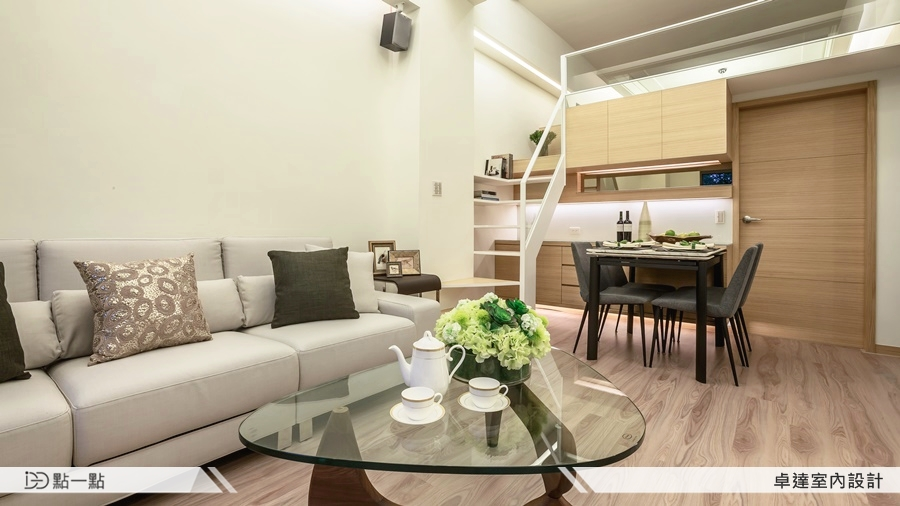sofa: (1, 234, 442, 506)
table: (240, 334, 638, 506), (583, 235, 732, 384)
